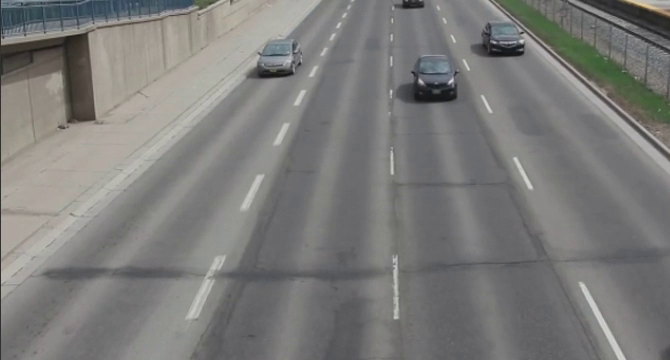car: (404, 51, 467, 105), (474, 9, 537, 63), (254, 35, 305, 79)
